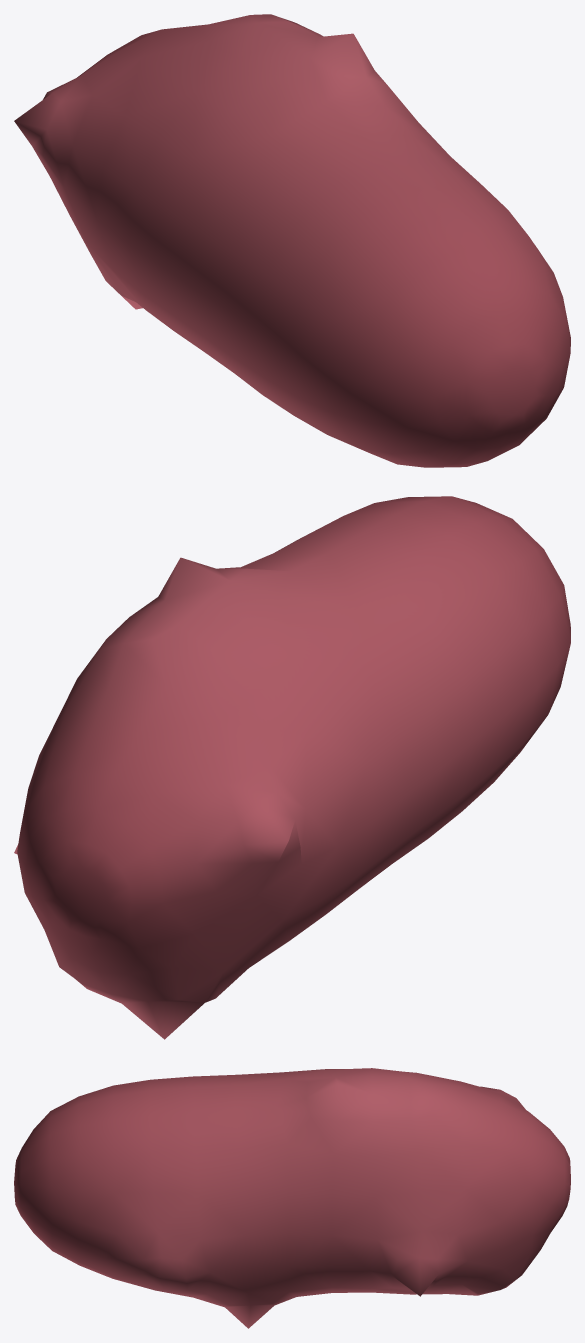
Rendered from microscopic-bacteria-lumpy-bacterium_v2.glb.
3 views of the same model, one above another, from view 1: azimuth 30°, elevation 25°; view 2: azimuth 150°, elevation 25°; view 3: azimuth 270°, elevation 25° (orthographic). The views are drawn at different scales.
Parts seen in each view (by area): view 1: Lumpy Bacterium_v2; view 2: Lumpy Bacterium_v2; view 3: Lumpy Bacterium_v2.
Boxes of the visible parts, bbox=[...] form: Lumpy Bacterium_v2: bbox=[14, 14, 570, 467]; Lumpy Bacterium_v2: bbox=[14, 496, 570, 1039]; Lumpy Bacterium_v2: bbox=[14, 1068, 570, 1328].
Bounding box in the file's own units: 0.2308 × 0.2453 × 0.5.
